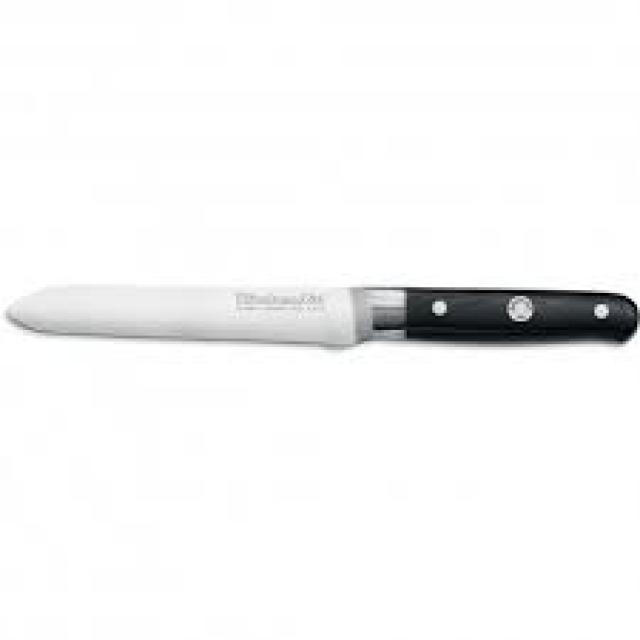knife: (4, 260, 640, 371)
